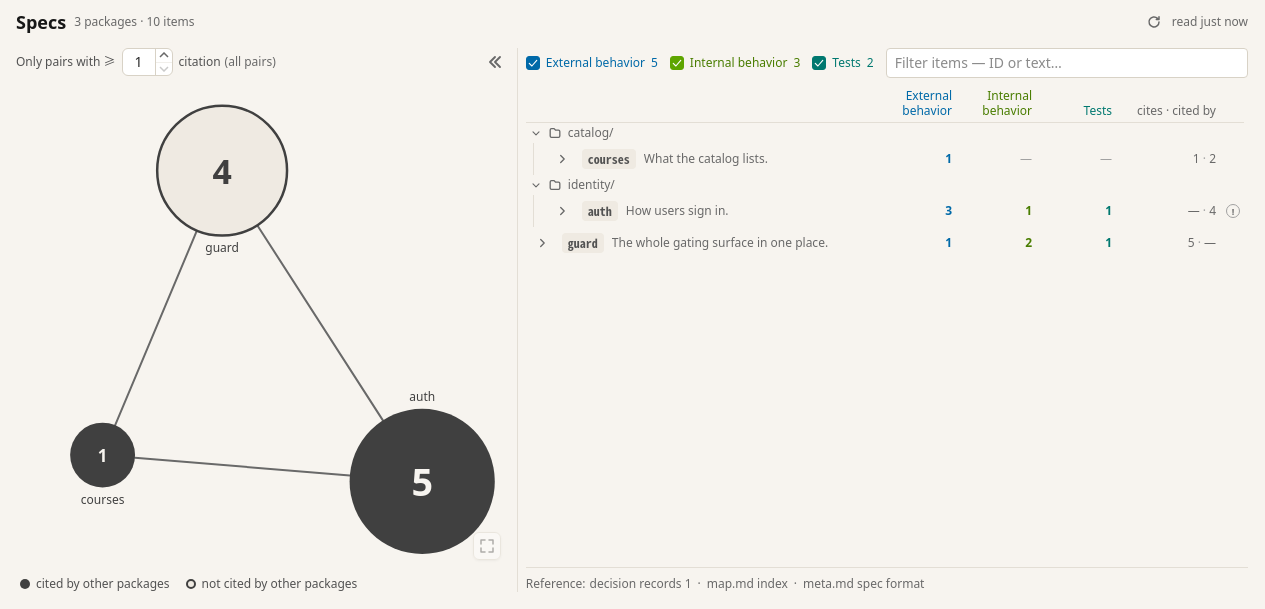
Test: SPECV-19/37: citation rows and backlinks › outbound rows list the item's cites in document order
Step 1. Click the button "guard The whole gating surface in one place." → (717, 243), box top-left (562, 233), bottom-right (872, 253)
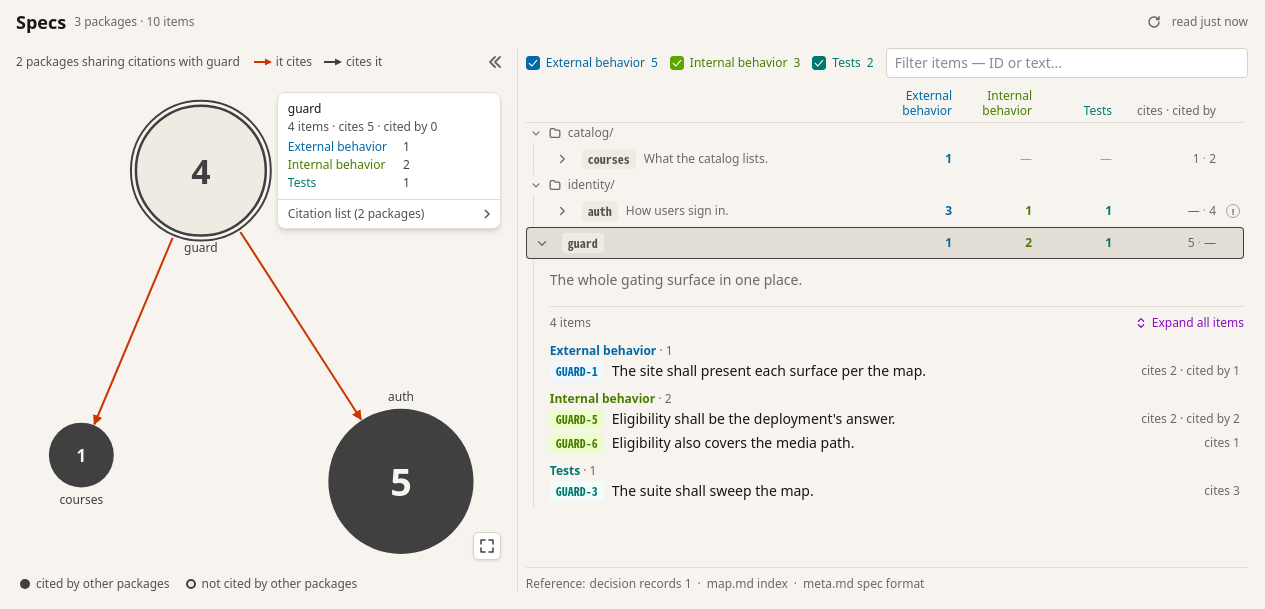
Step 2. Click the button with test id "item-toggle-GUARD-3" → (713, 490), box top-left (612, 481), bottom-right (1192, 501)
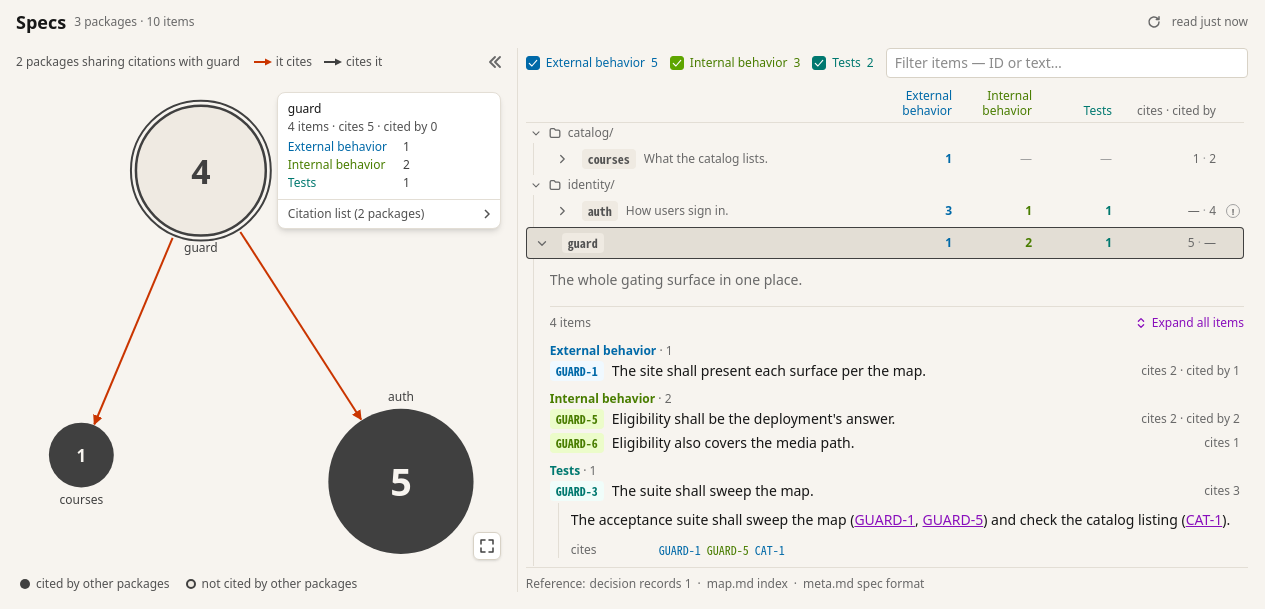
Now the element with test id "cites-GUARD-3" shows "cites", box top-left (571, 540), bottom-right (596, 558)
